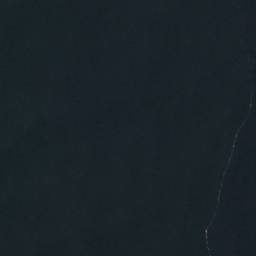Marine Debris: (203, 89, 256, 256)
